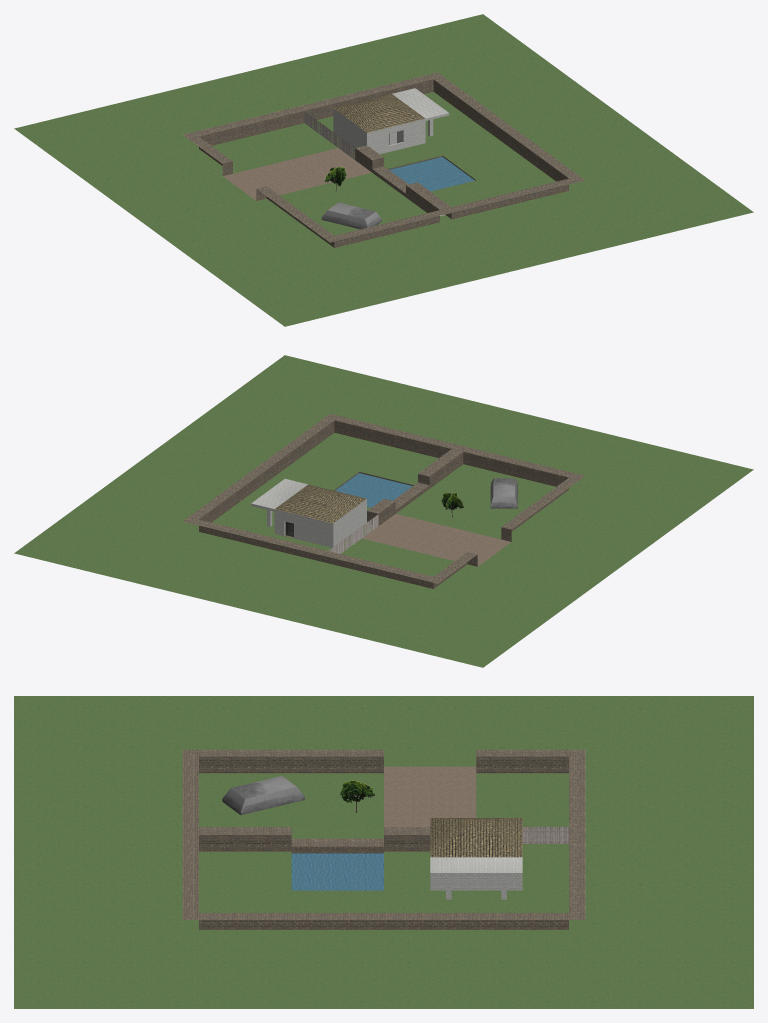
File: anarchy_map.FBX
3 views of the same model, one above another, from view 1: azimuth 30°, elevation 25°; view 2: azimuth 150°, elevation 25°; view 3: azimuth 270°, elevation 25° (orthographic). The views are drawn at different scales.
Parts seen in each view (by area): view 1: anar_lod, anar_map, anar_water, anar_ufo; view 2: anar_lod, anar_map, anar_water, anar_ufo; view 3: anar_lod, anar_map, anar_water, anar_ufo, anar_tree.
Boxes of the visible parts, x1,y1,x2,y2 form: anar_lod: [14, 14, 753, 326]; anar_map: [183, 72, 584, 247]; anar_water: [389, 157, 474, 191]; anar_ufo: [321, 202, 381, 229]; anar_lod: [14, 355, 753, 667]; anar_map: [183, 413, 584, 588]; anar_water: [335, 473, 412, 507]; anar_ufo: [490, 478, 517, 508]; anar_lod: [14, 696, 753, 1008]; anar_map: [182, 749, 585, 929]; anar_water: [291, 853, 383, 890]; anar_ufo: [222, 776, 304, 815]; anar_tree: [339, 780, 375, 812].
Bounding box in the file's own units: 400 × 400 × 40.
